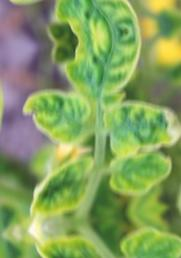Tomato leaf yellow virus: (63, 28, 153, 110), (88, 87, 181, 164), (12, 75, 99, 150), (12, 160, 105, 223), (0, 52, 17, 141)
